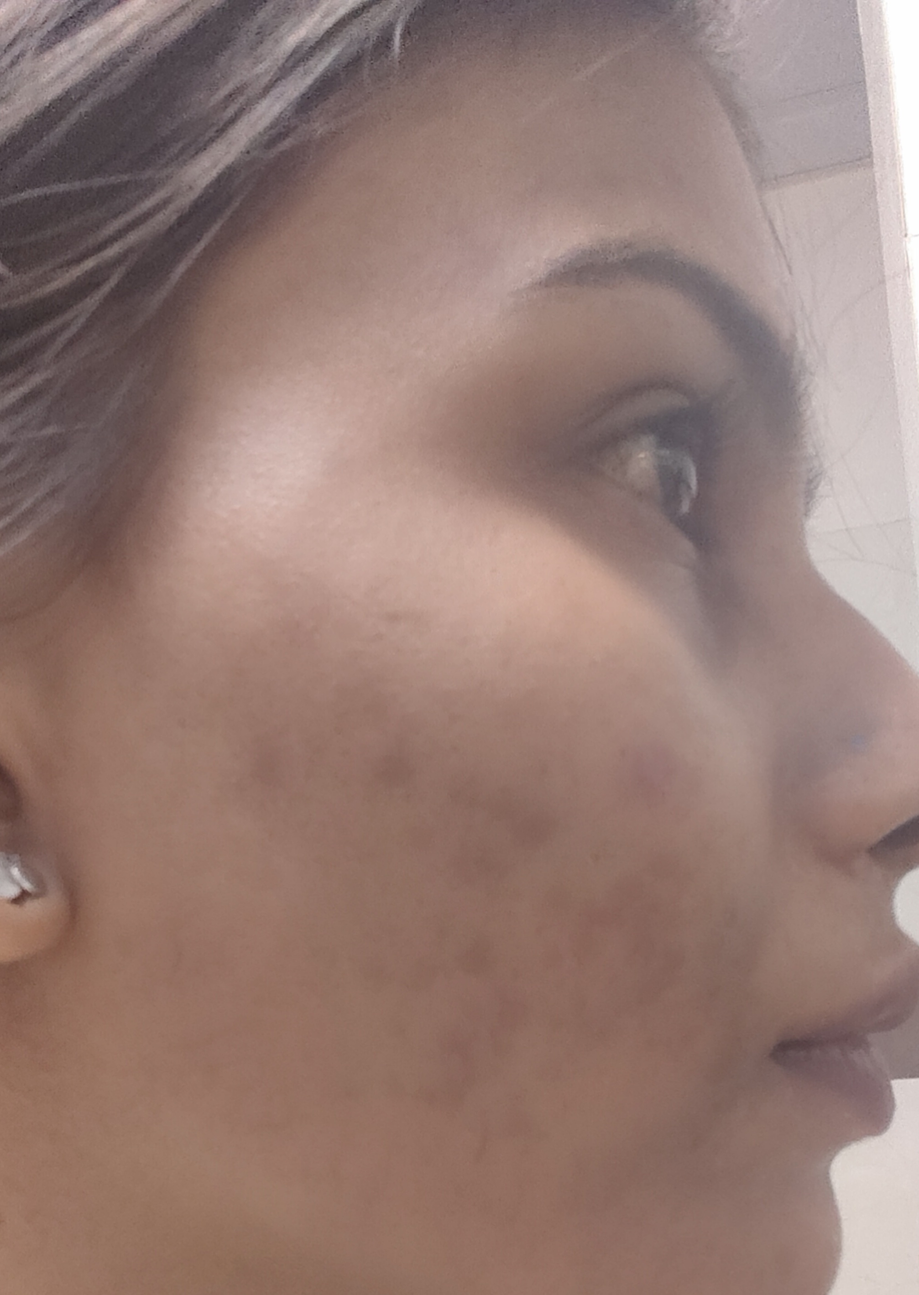papule: (603, 731, 695, 825), (214, 712, 291, 818), (368, 729, 436, 812)
